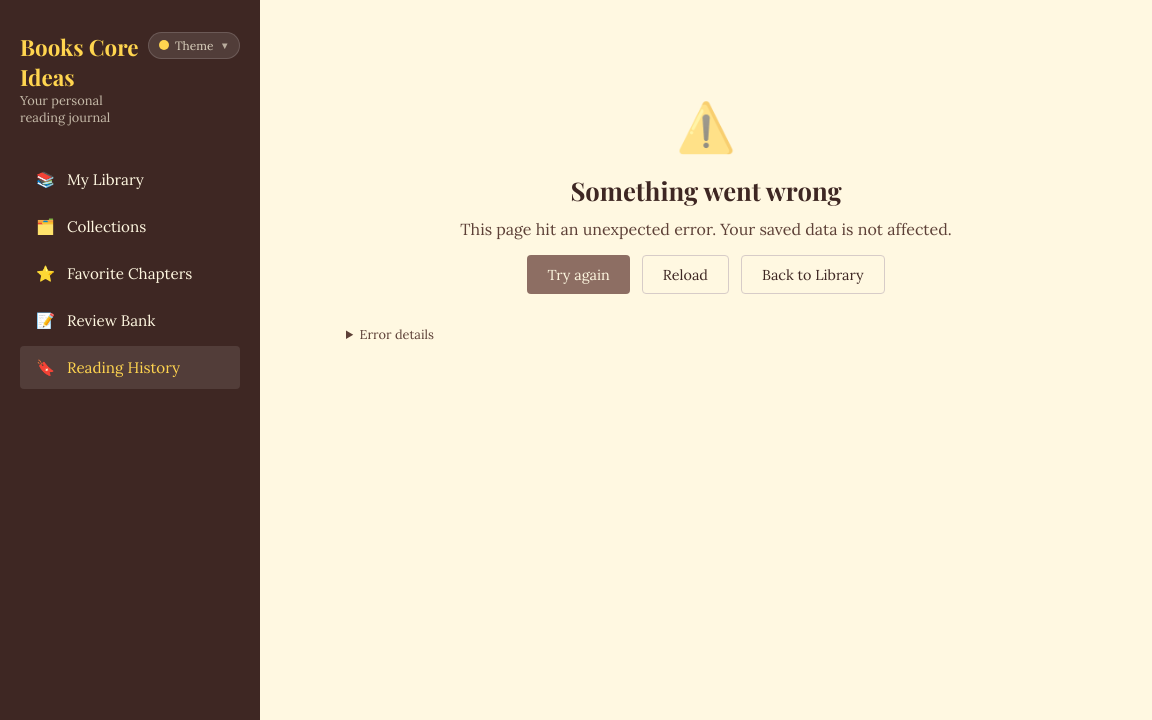
it: error boundary › shows an error screen in the main area; the sidebar still works and leaving clears it
Check: the heading "Something went wrong" is shown, box [570, 173, 842, 207]
Click the link "📚 My Library" at [90, 180], box [36, 170, 144, 189]
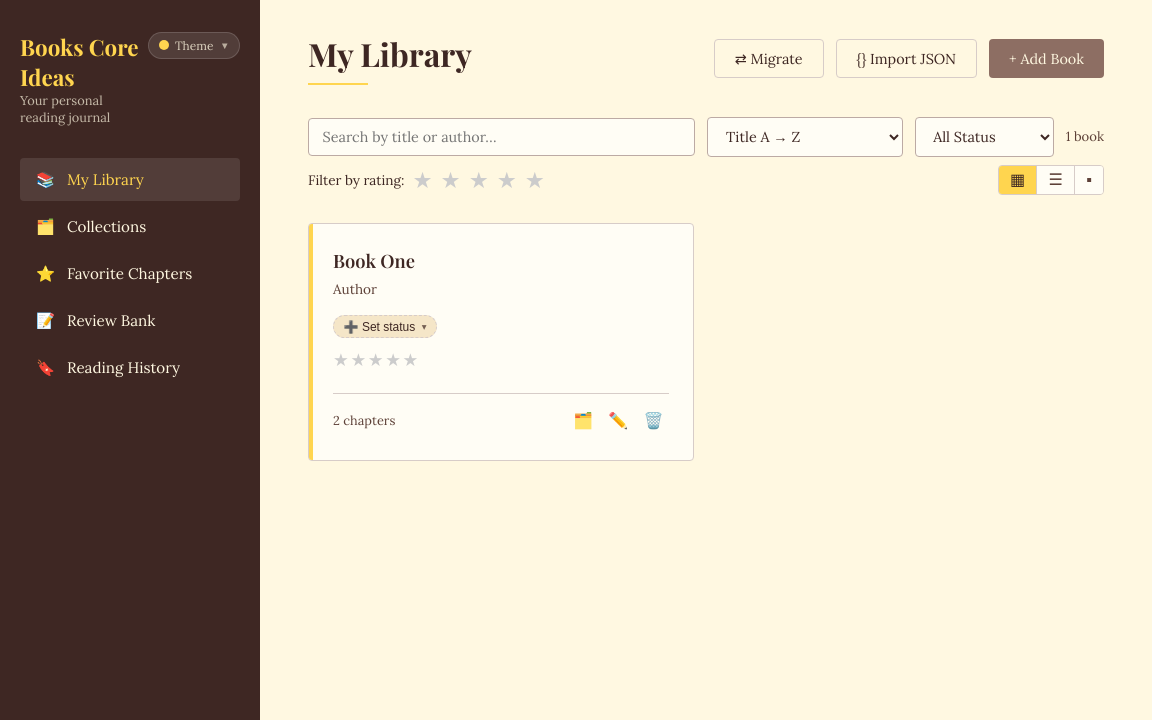
Check: the text "Book One" is shown, box [333, 248, 415, 273]
Check: the heading "Something went wrong" is gone
